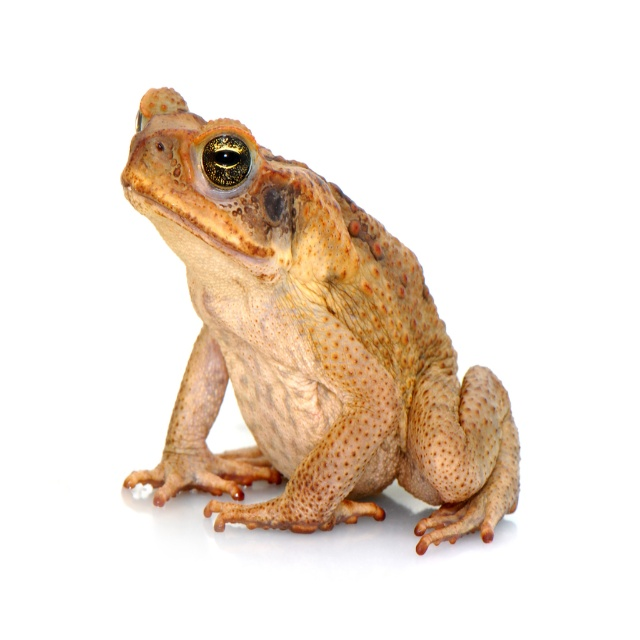Frog: (122, 86, 520, 555)
